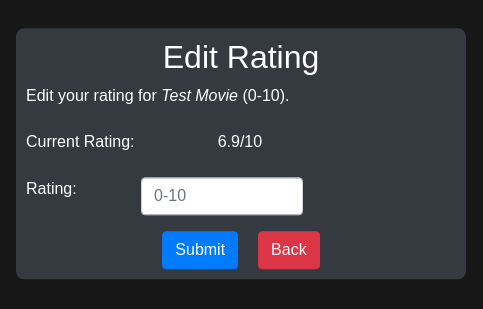
Scenario: addRating component › submit functionallity › edit/add rating › should catch and display update errors
Step 1. Type "6" into the number field labelled "Rating:" → (222, 197), box [141,178,303,216]
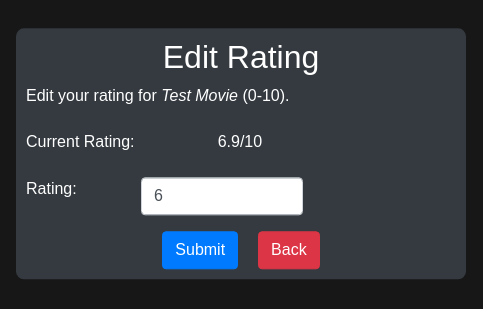
Step 2. Click the button "Submit" → (200, 251), box [162,232,238,270]
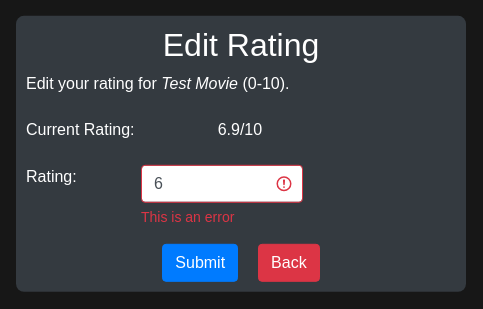
Expected: the text "This is an error" is shown, [141,209,234,225]
